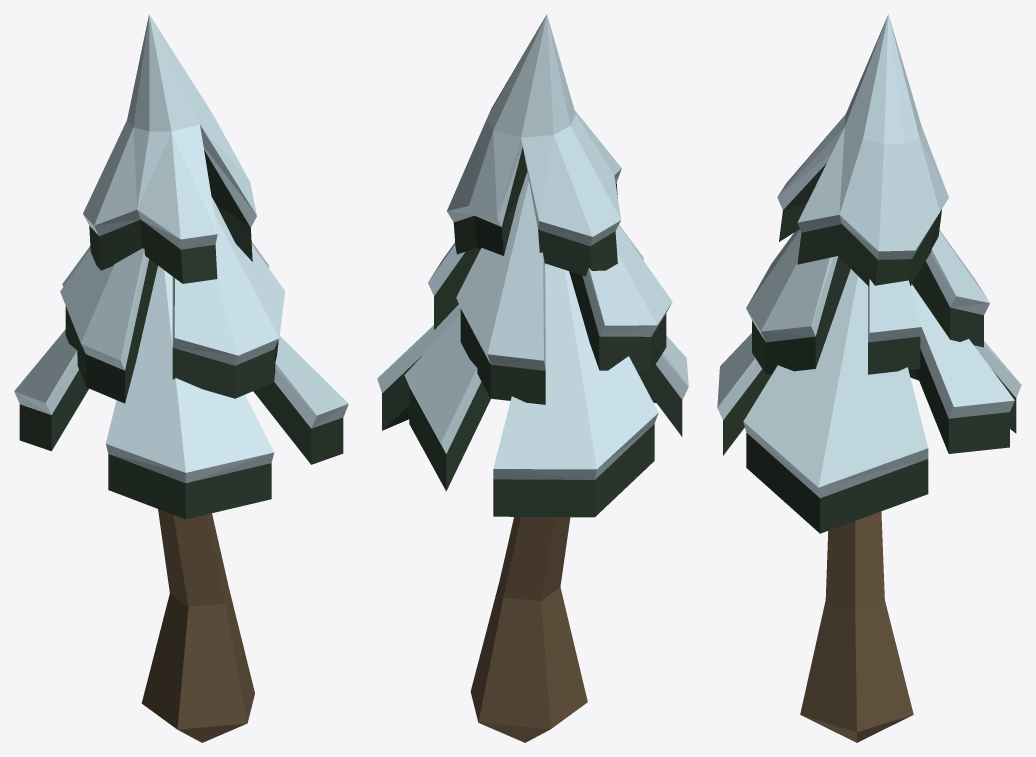
File: SM_Env_Tree_Pine_03_Snow.fbx
The picture shows the model from 3 angles, left to right: view 1: azimuth 30°, elevation 25°; view 2: azimuth 150°, elevation 25°; view 3: azimuth 270°, elevation 25°; orthographic projection. The views are drawn at different scales.
Visible parts, largest first — view 1: SM_Env_Tree_Pine_03_Snow; view 2: SM_Env_Tree_Pine_03_Snow; view 3: SM_Env_Tree_Pine_03_Snow.
Part boxes in pixels (x1,y1,x2,y2): SM_Env_Tree_Pine_03_Snow: (14,14,348,742); SM_Env_Tree_Pine_03_Snow: (377,14,688,742); SM_Env_Tree_Pine_03_Snow: (717,14,1021,742).
Bounding box in the file's own units: 124 × 318 × 123.
